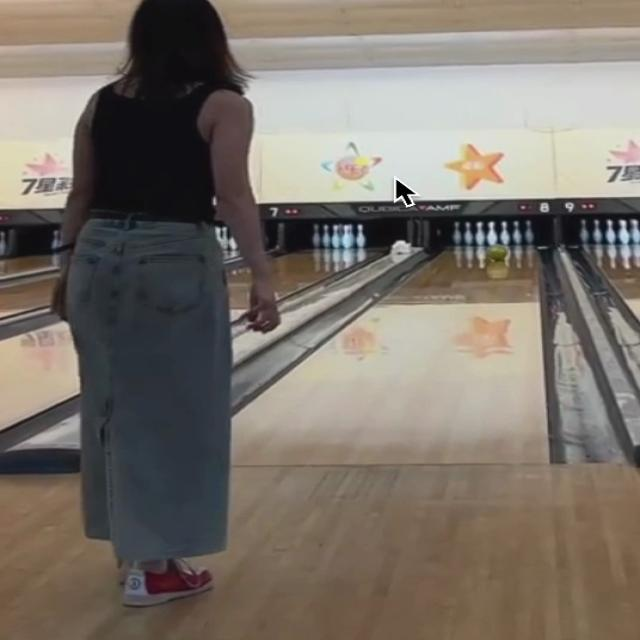alley: (234, 245, 546, 466)
balls: (486, 245, 507, 262)
bottle: (454, 220, 533, 248)
